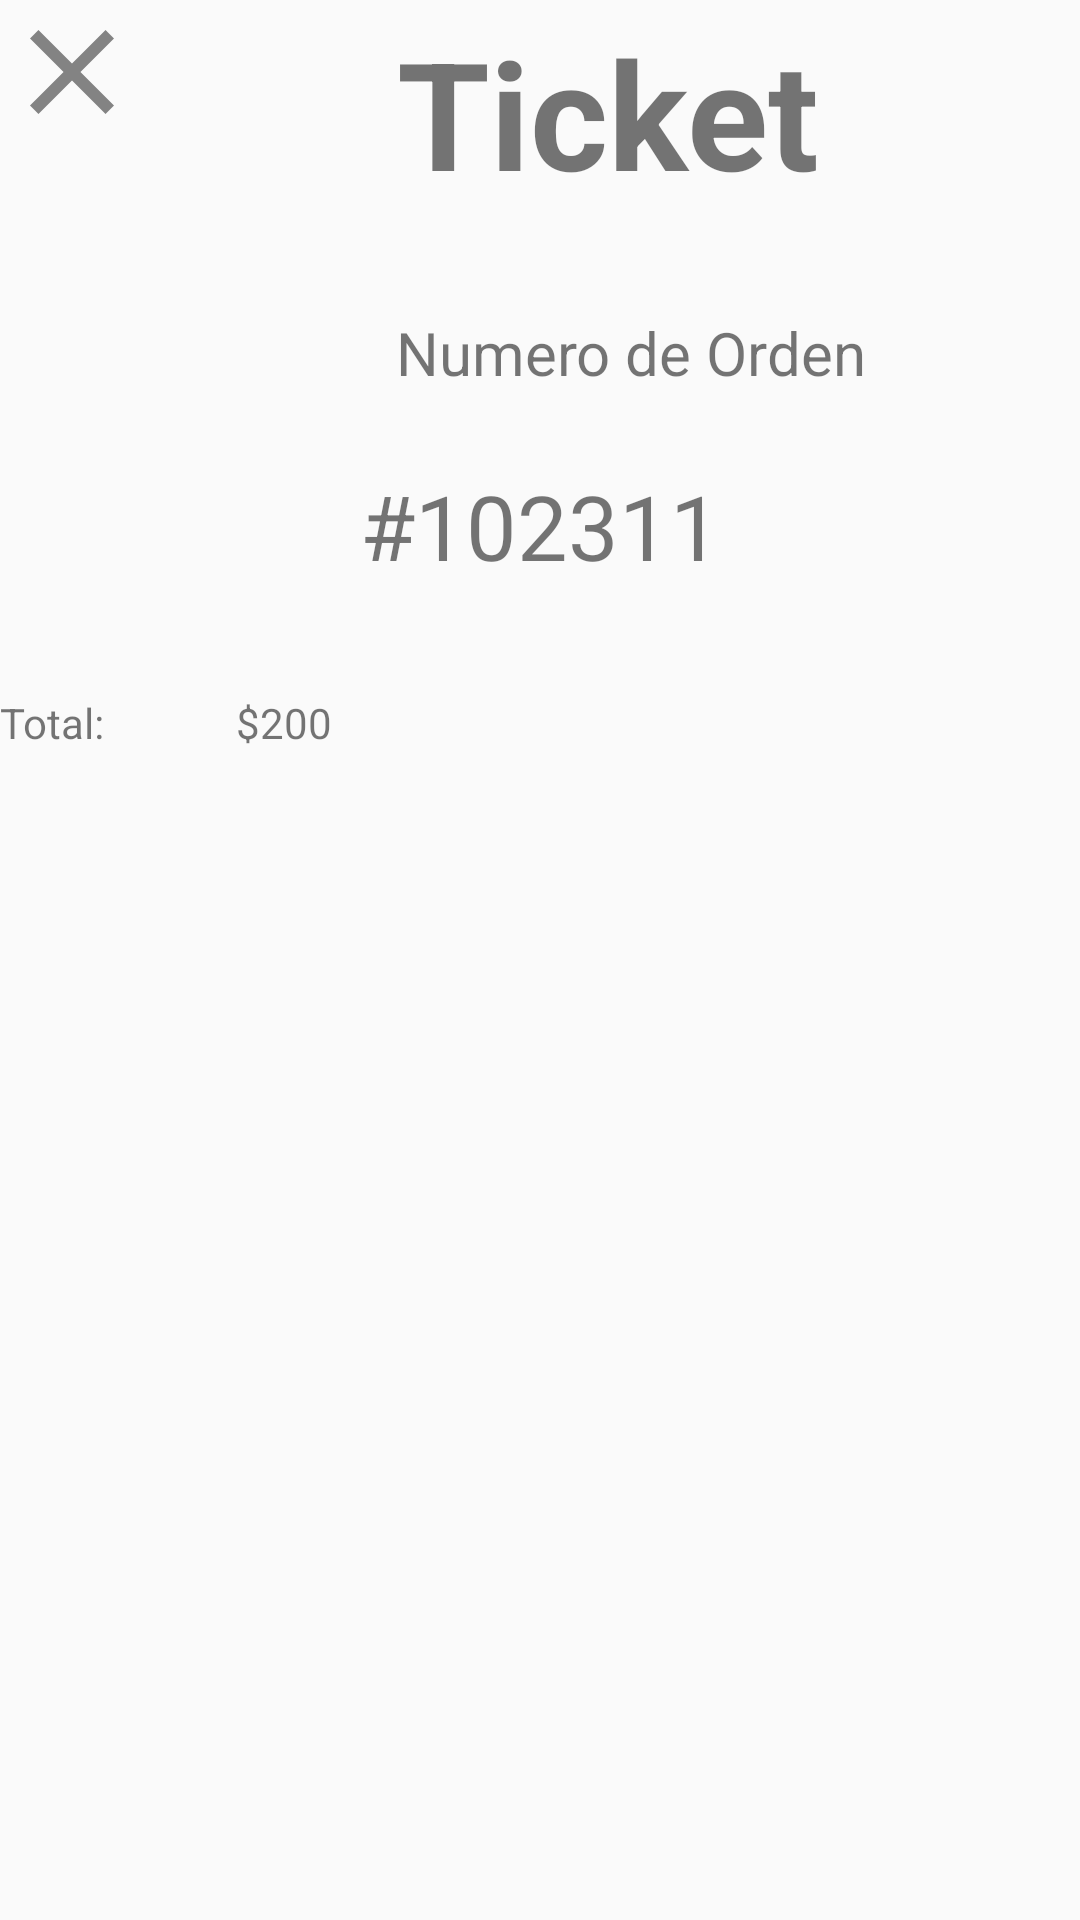

Where icons sit on this 1080 × 1920 app screen, as region(x1, y1, x2, y2):
close: region(30, 30, 114, 114)
